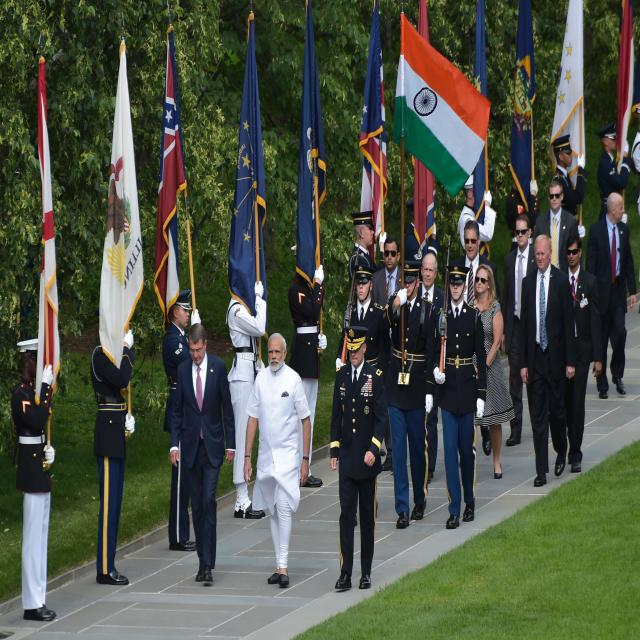body: (165, 321, 238, 589), (242, 330, 314, 593), (328, 322, 388, 591), (430, 260, 489, 532), (380, 256, 436, 528), (520, 234, 576, 486), (10, 337, 57, 623), (89, 307, 137, 586), (450, 219, 496, 456), (587, 190, 638, 400), (467, 263, 516, 480), (162, 289, 202, 552), (225, 279, 267, 520), (562, 232, 603, 475), (288, 244, 328, 488), (501, 214, 539, 448), (371, 234, 403, 474), (415, 253, 446, 485), (340, 262, 388, 375), (532, 178, 580, 276), (549, 132, 586, 239), (596, 121, 631, 223), (457, 174, 498, 252), (348, 209, 388, 287), (404, 198, 437, 282), (504, 178, 539, 252), (631, 99, 640, 218)
